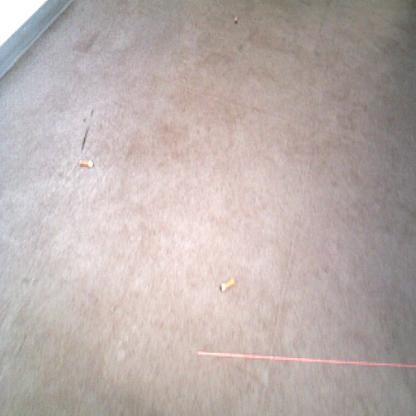dirty: (219, 276, 237, 293), (77, 158, 94, 170), (233, 14, 238, 25)
mark: (72, 29, 100, 52), (237, 31, 254, 53), (79, 124, 89, 152), (81, 115, 88, 125), (89, 107, 96, 117)
